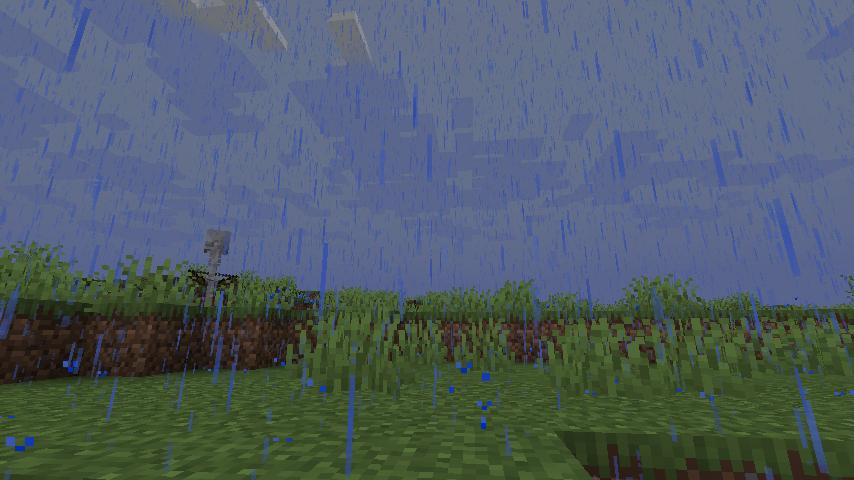skeleton: (191, 226, 236, 311)
